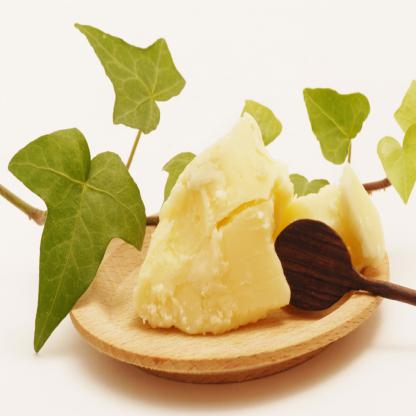butter: (142, 117, 282, 329)
